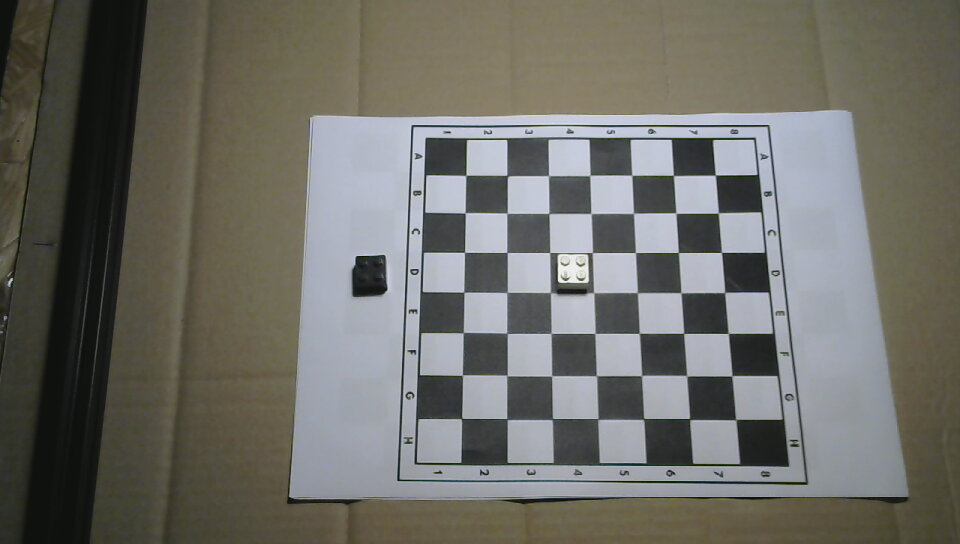wp: (552, 249, 597, 293)
